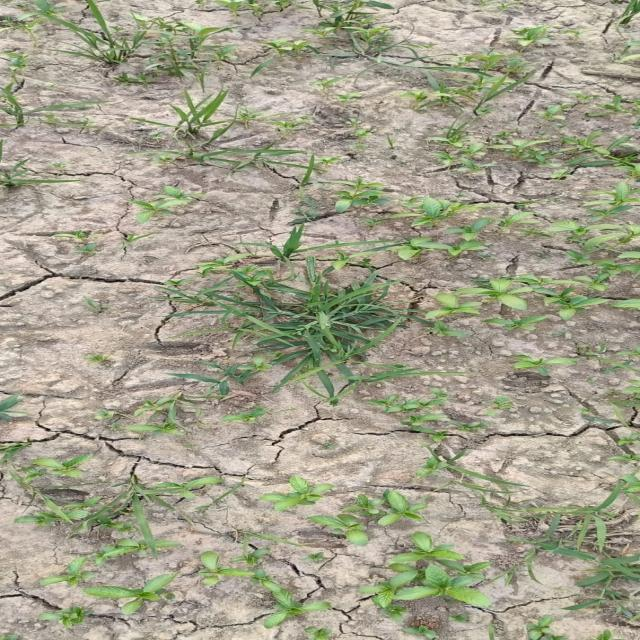plant: (163, 256, 421, 401)
